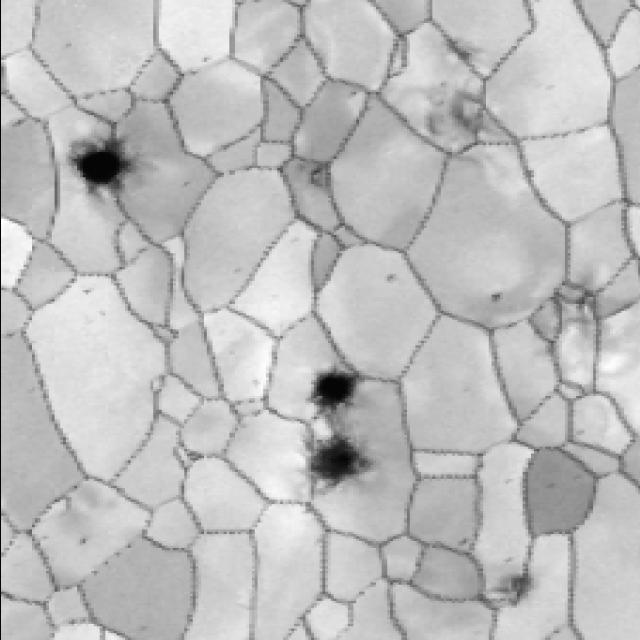good_void: (413, 38, 492, 147), (62, 127, 140, 203), (297, 428, 377, 496), (482, 553, 539, 613), (308, 368, 365, 424), (295, 159, 342, 189), (486, 291, 509, 305), (382, 272, 400, 285), (457, 535, 471, 551), (72, 535, 91, 546), (82, 285, 95, 296)
